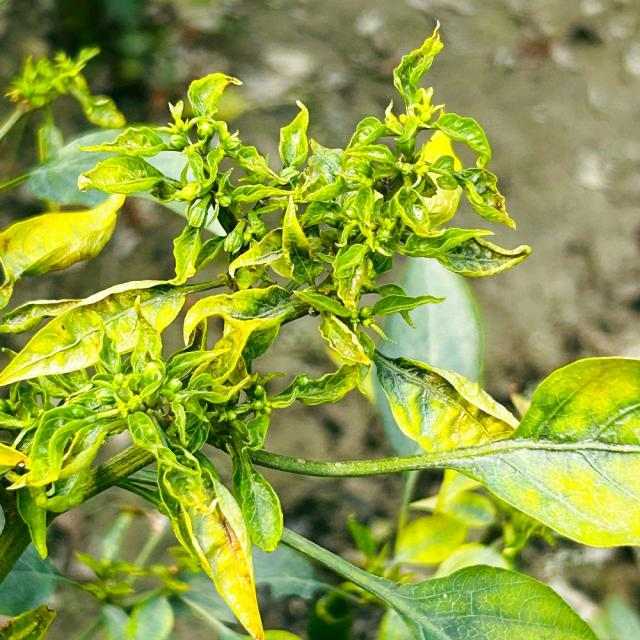Chilli_Leaf_Curl: (1, 18, 638, 638), (244, 349, 638, 549)
